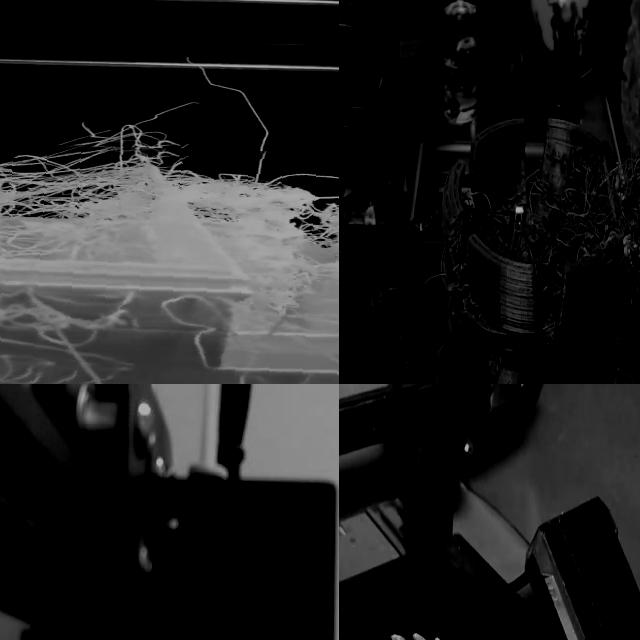spaghetti: (0, 137, 339, 384), (440, 153, 640, 384), (369, 280, 406, 318)
